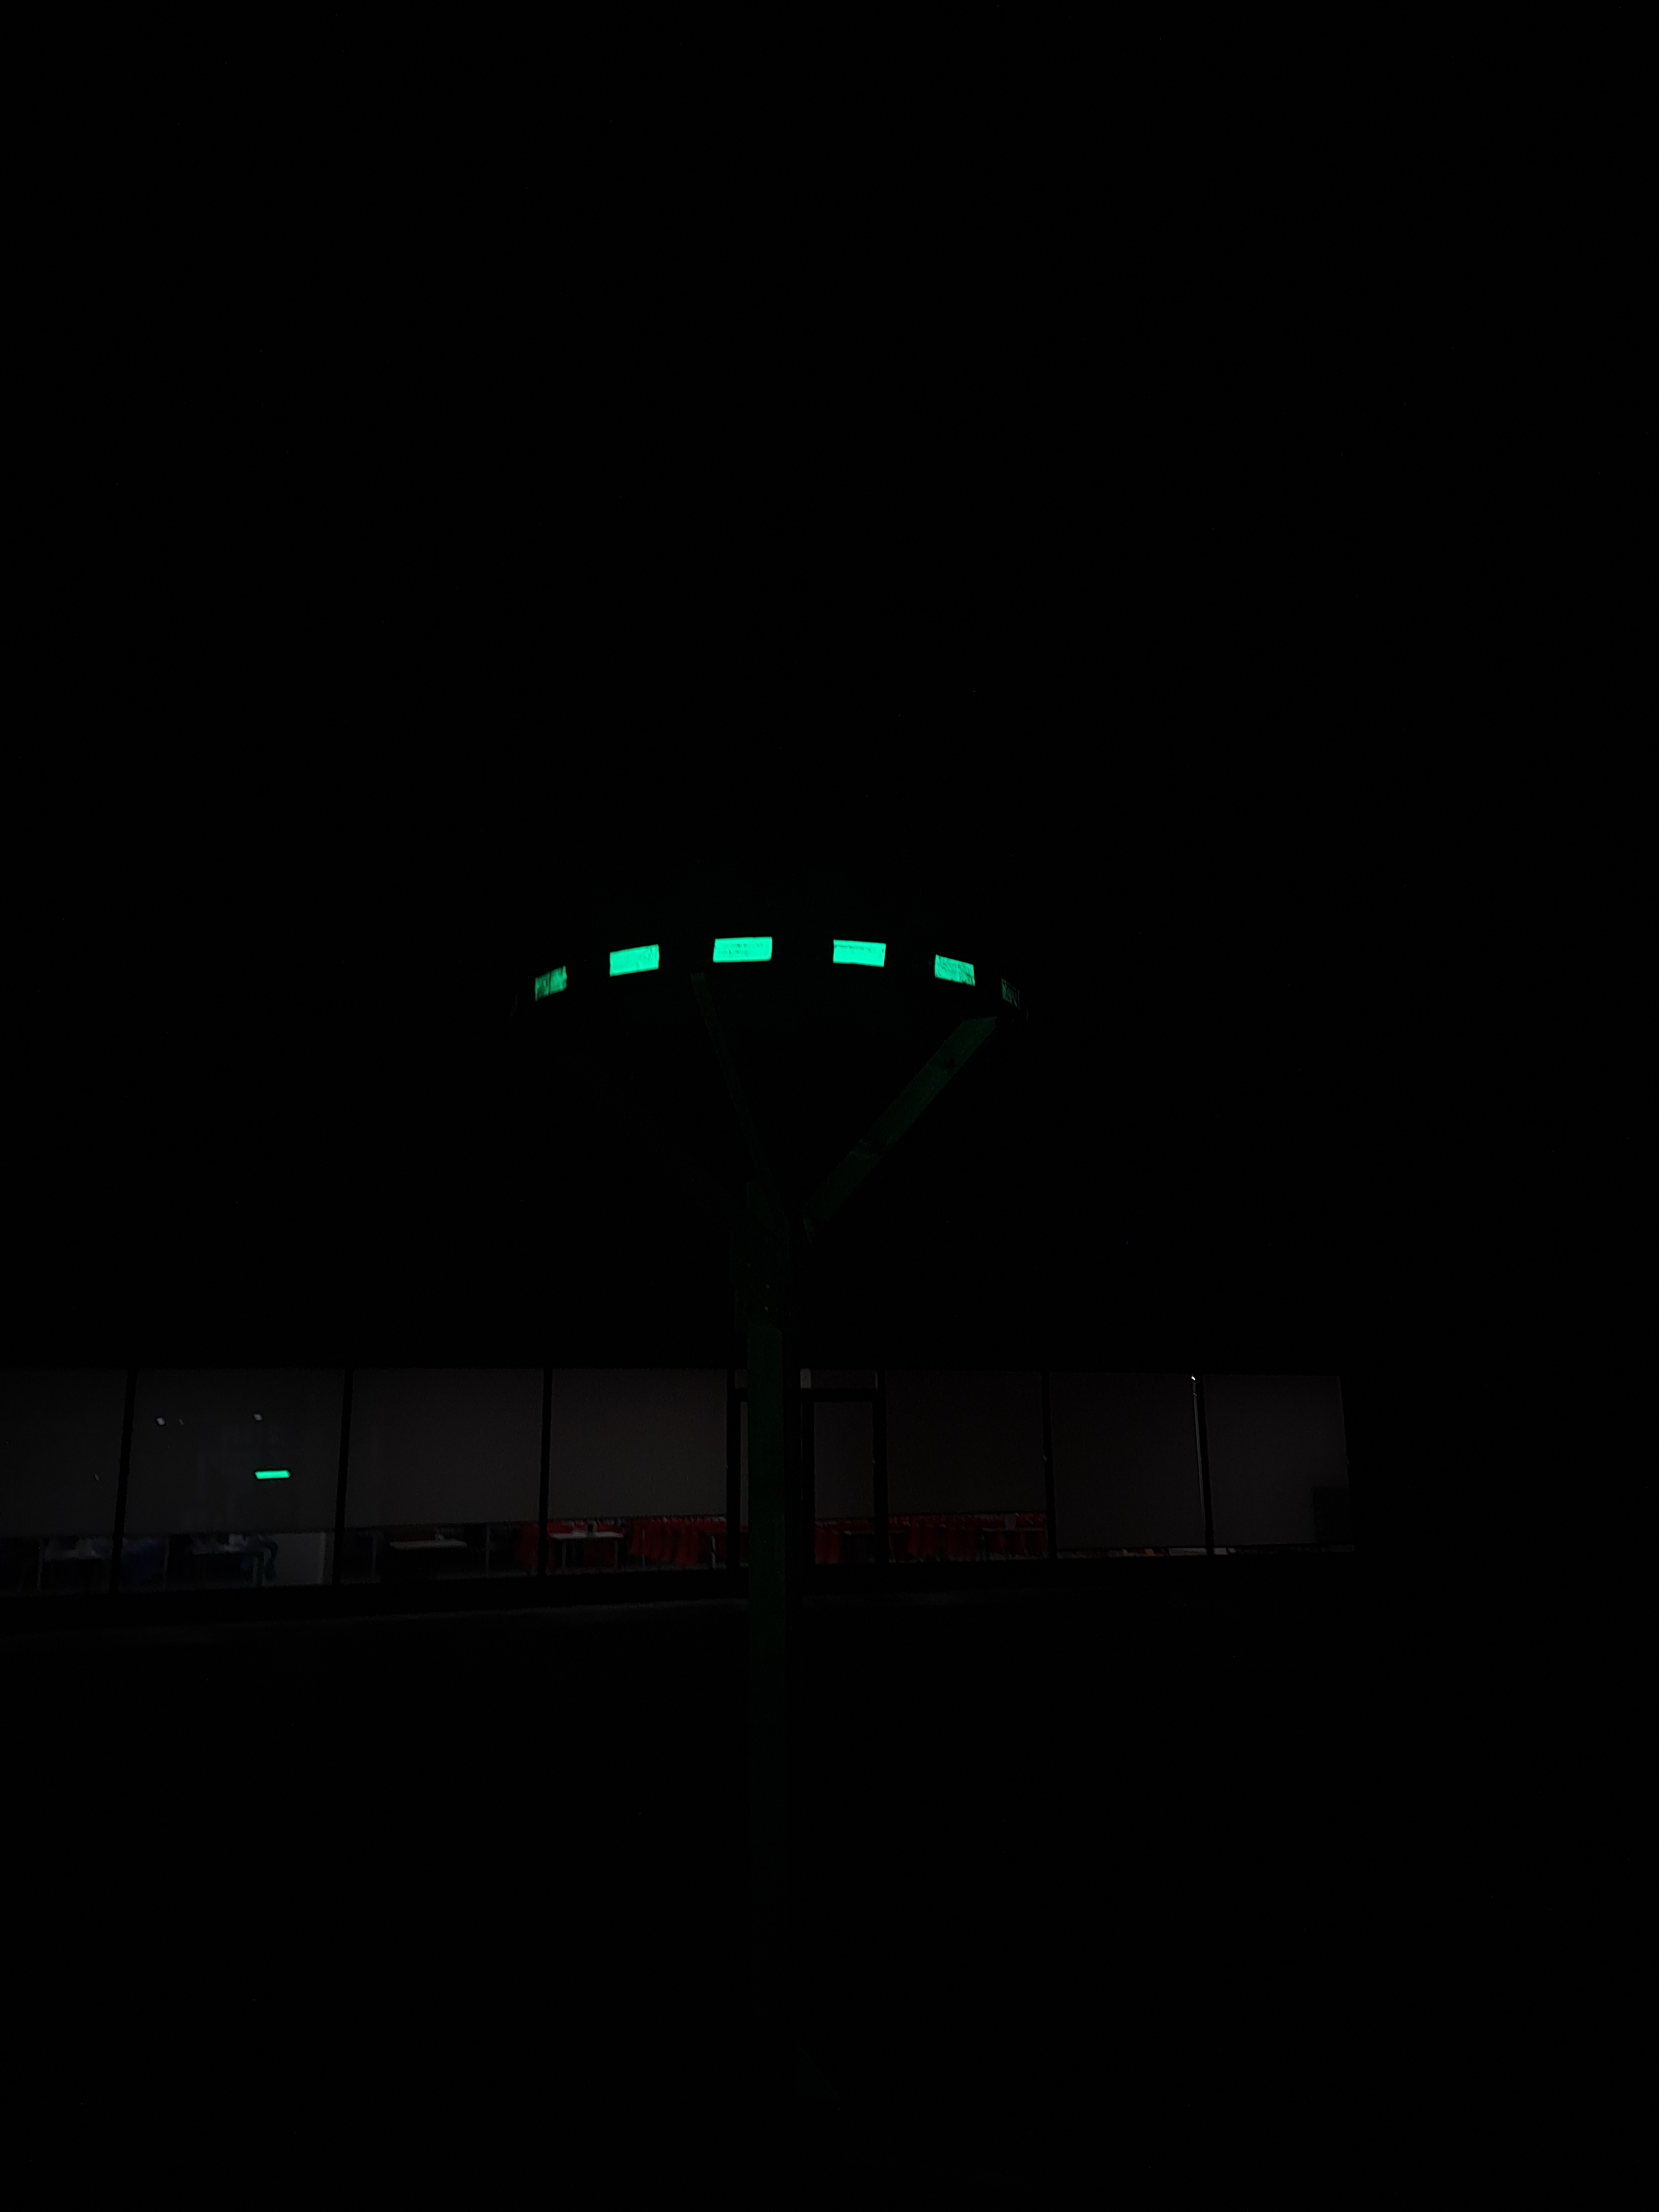hoop: (521, 935, 988, 1001)
